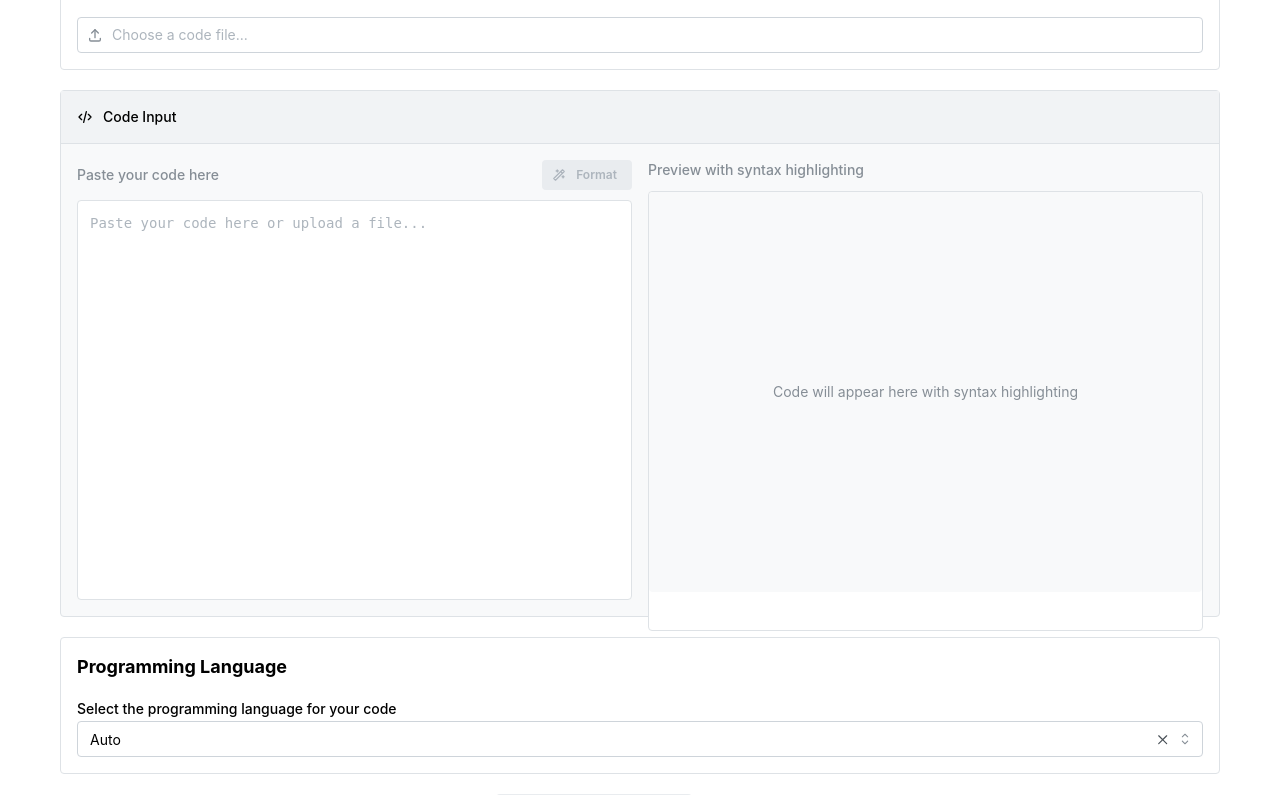
Scenario: CodeInput component › resets form when reset button is clicked
(page scrolled)
Type "console.log(\"Test\");" into the text box with placeholder "Paste your code here or upload a file..." at (354, 400), box [77,200,632,600]
(page scrolled)
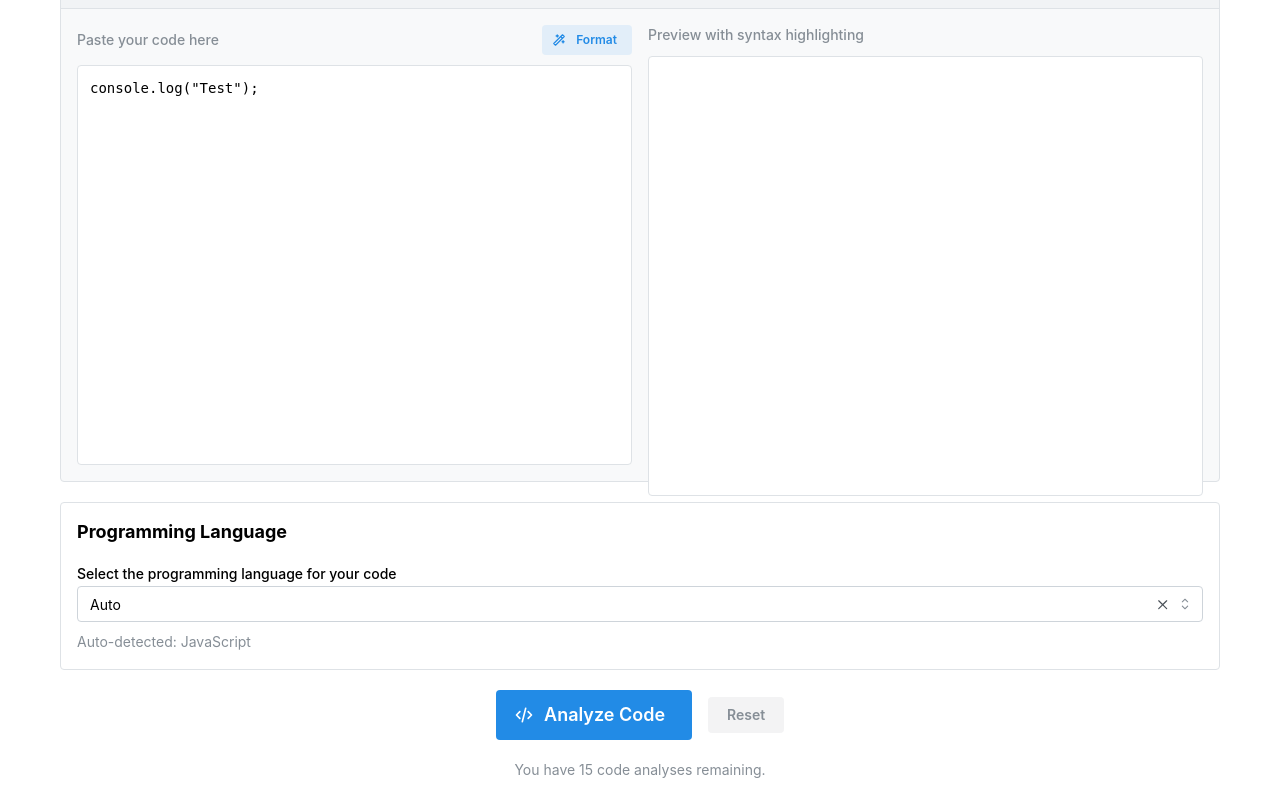
Click the button "Reset" at (746, 715), box [708,697,784,733]
(page scrolled)
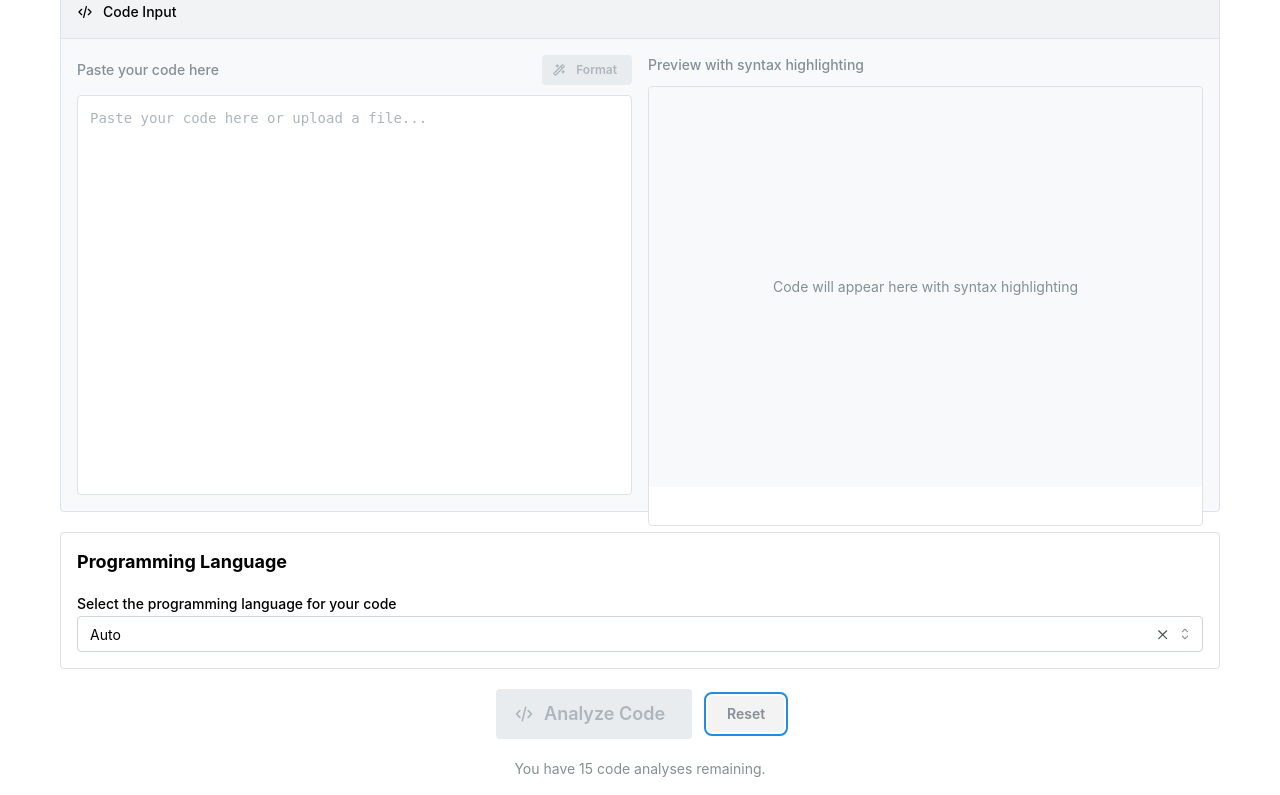
Expected: the text box with placeholder "Paste your code here or upload a file..." is empty, [77,95,632,495]
